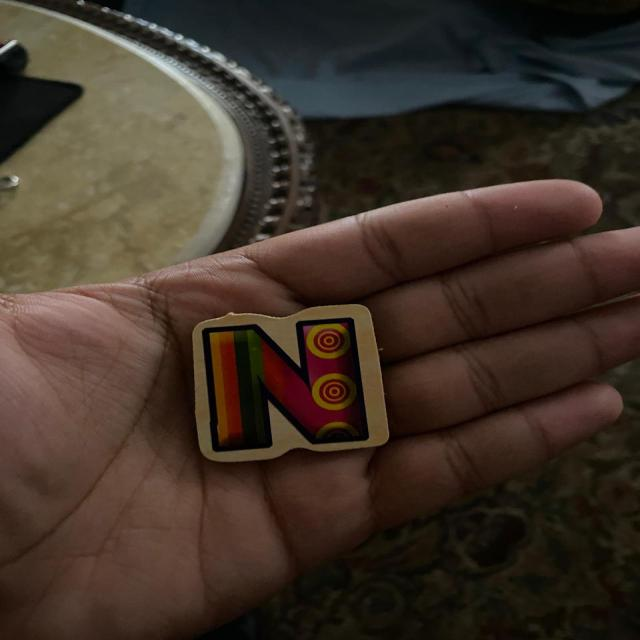N: (193, 305, 388, 463)
